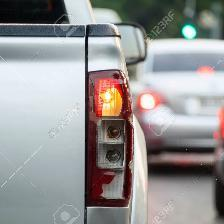broken_light: (77, 45, 138, 217)
